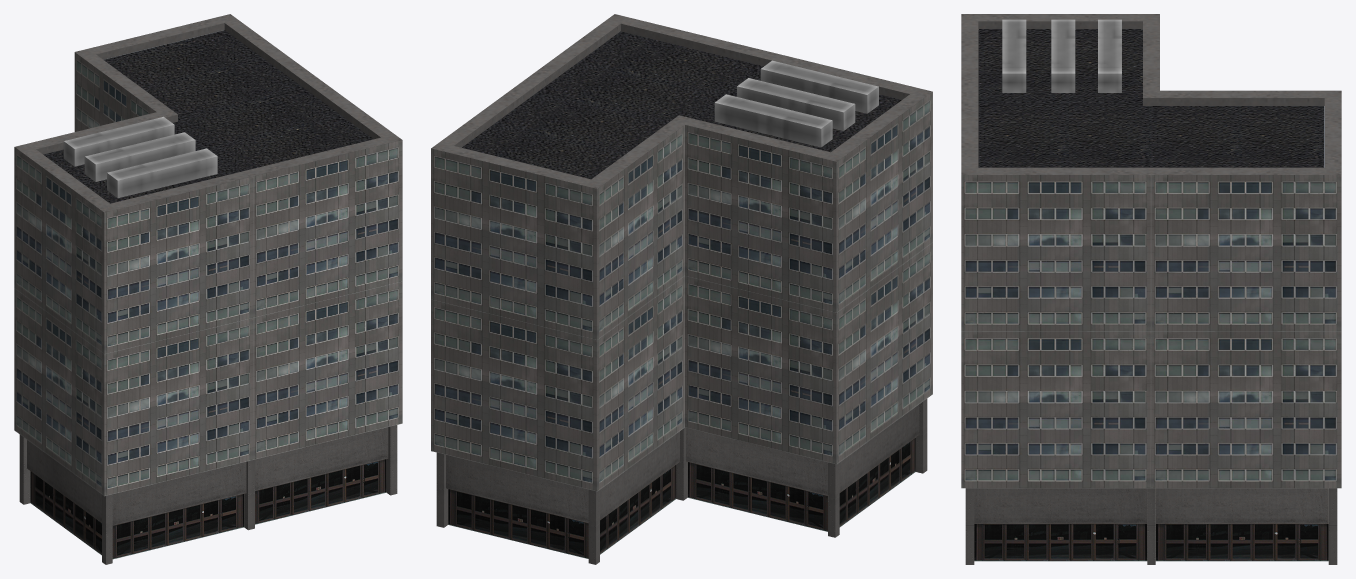
The model's file is si_building_02.fbx.
3 views of the same model, side by side, from view 1: azimuth 30°, elevation 25°; view 2: azimuth 150°, elevation 25°; view 3: azimuth 270°, elevation 25° (orthographic). The views are drawn at different scales.
Parts seen in each view (by area): view 1: si_building_02; view 2: si_building_02; view 3: si_building_02.
Part boxes in pixels (x1,y1,x2,y2): si_building_02: [14, 14, 402, 564]; si_building_02: [431, 14, 932, 564]; si_building_02: [961, 14, 1341, 564].
Size of the model in its own units: 88 by 103 by 88.
1 material, 1 textured.
